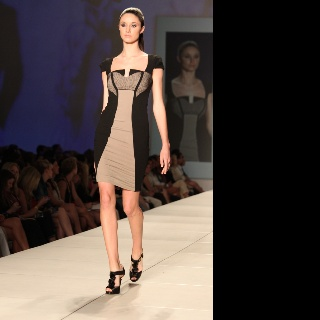without_mask: (118, 7, 146, 44), (177, 44, 201, 71)
